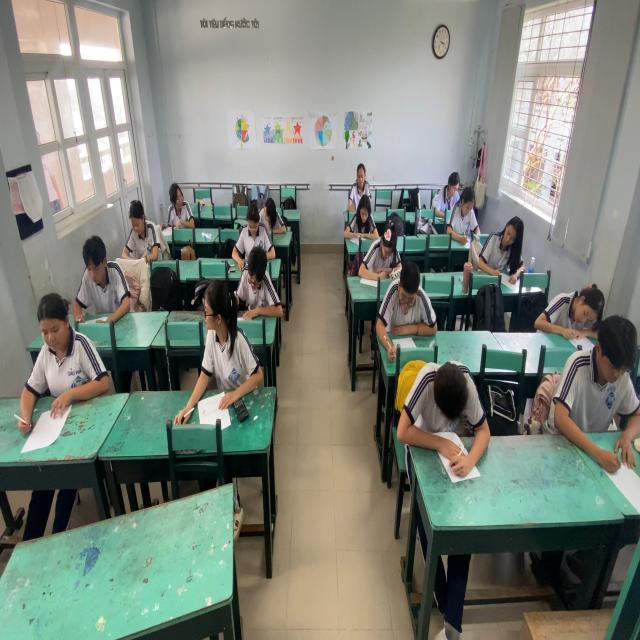cheating: (193, 272, 255, 402), (253, 189, 288, 240), (166, 174, 190, 231)
not_cheating: (20, 287, 96, 415), (568, 315, 630, 461), (412, 351, 478, 475), (471, 208, 530, 290), (232, 239, 281, 324), (73, 230, 115, 322), (548, 268, 604, 334), (386, 253, 427, 334), (116, 198, 161, 266), (238, 198, 274, 260), (364, 220, 398, 279), (447, 191, 486, 242), (350, 151, 378, 207), (436, 158, 463, 207), (353, 186, 375, 236)
